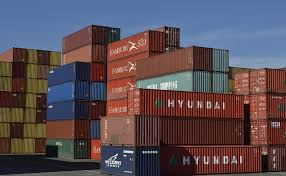container_no_door: (193, 45, 213, 72), (213, 47, 231, 74), (73, 59, 92, 81), (194, 72, 213, 92), (91, 23, 108, 45), (213, 74, 231, 94), (74, 101, 91, 122), (89, 101, 107, 120), (90, 81, 107, 101), (74, 140, 91, 160), (11, 75, 28, 95), (148, 30, 164, 50), (90, 61, 106, 81), (91, 45, 108, 63), (74, 81, 90, 100), (75, 120, 90, 140), (13, 45, 28, 64), (12, 63, 26, 77), (28, 63, 39, 79), (28, 47, 38, 64), (28, 80, 38, 95)
